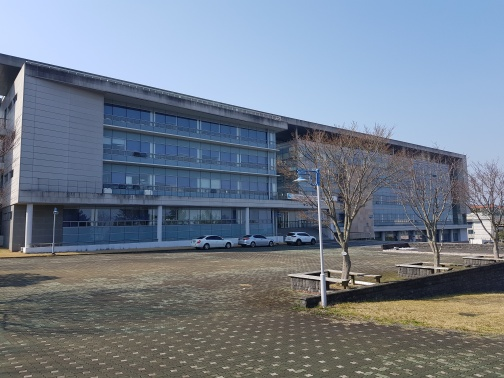Engineering College Building 4: (3, 60, 283, 234), (27, 74, 272, 218), (292, 124, 470, 241)
